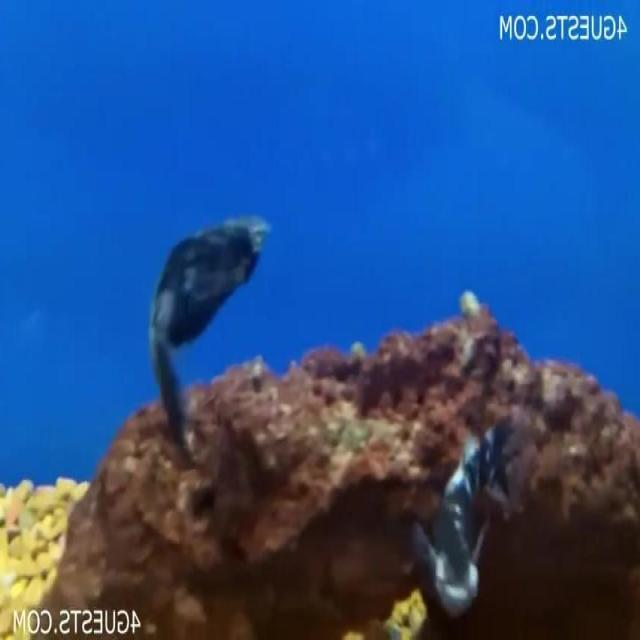PlatyFish: (144, 202, 277, 482)
